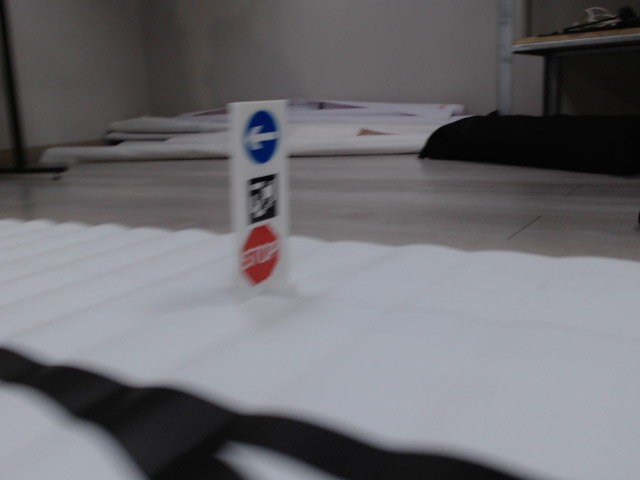Stop: (243, 224, 281, 278)
